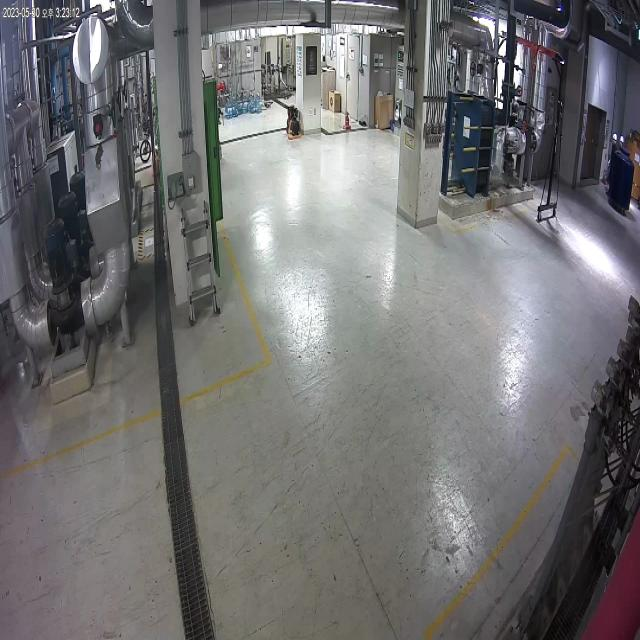Water Tank: (604, 144, 640, 217)
worker: (607, 123, 617, 182), (616, 135, 629, 150)
